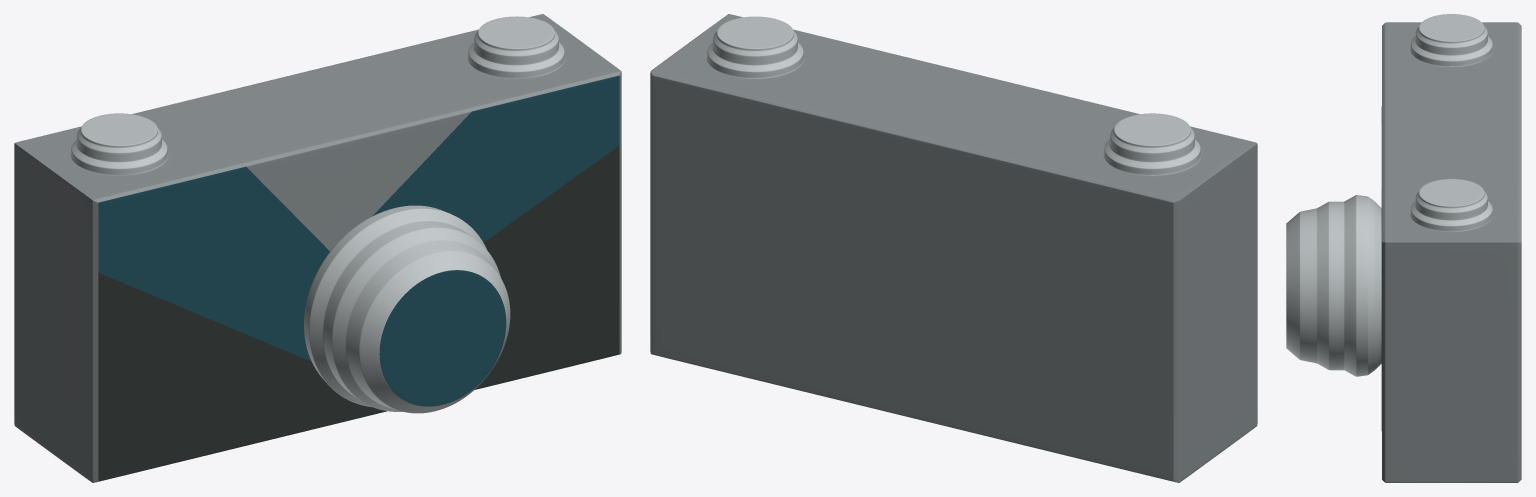
File: connected_camera.glb
3 renders of one model, left to right at view 1: azimuth 30°, elevation 25°; view 2: azimuth 150°, elevation 25°; view 3: azimuth 270°, elevation 25°, orthographic. The views are drawn at different scales.
Parts seen in each view (by area): view 1: Connected camera from one edited box cage; view 2: Connected camera from one edited box cage; view 3: Connected camera from one edited box cage.
Boxes of the visible parts, x1=… form: Connected camera from one edited box cage: x1=14, y1=14, x2=621, y2=482; Connected camera from one edited box cage: x1=650, y1=14, x2=1257, y2=482; Connected camera from one edited box cage: x1=1286, y1=14, x2=1521, y2=482.
Bounding box in the file's own units: 6.1 × 3.4 × 2.76.
